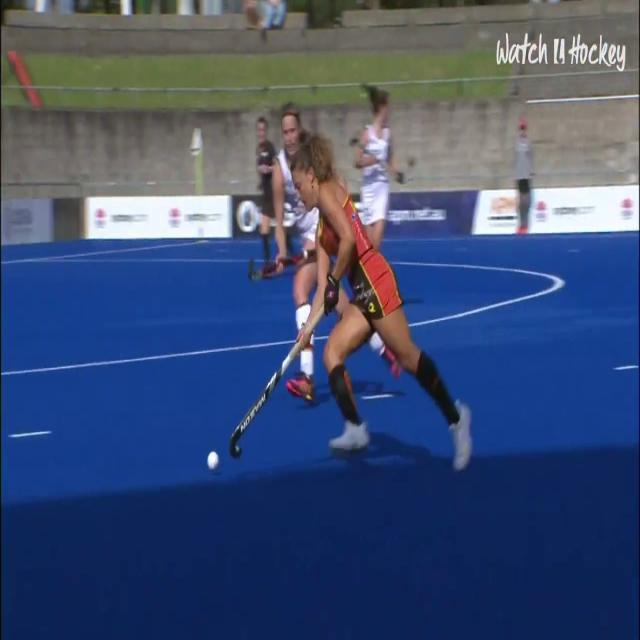ball: (195, 443, 232, 493)
